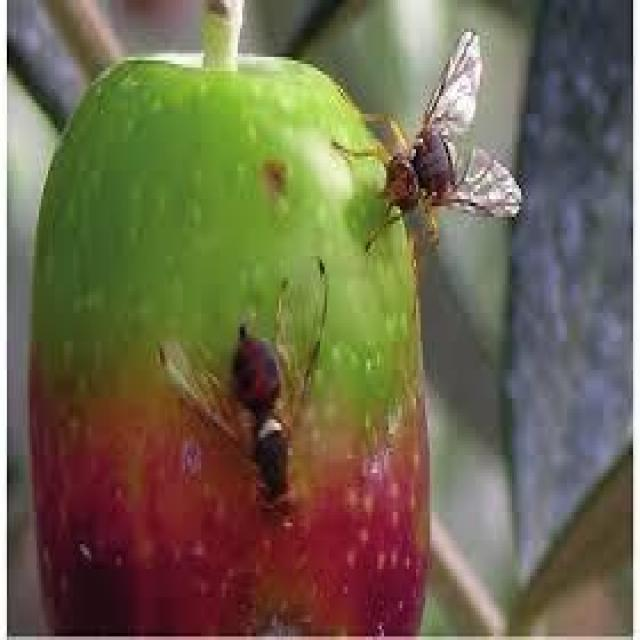Olive Fruit Fly: (27, 60, 432, 636)
